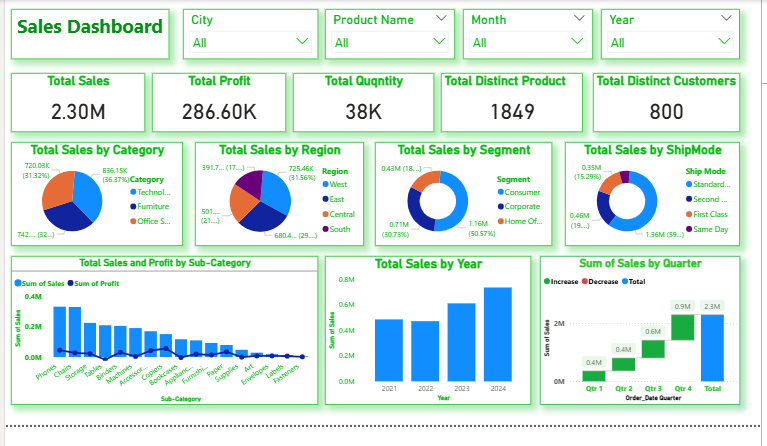

What the dashboard file says about the page in this screenshot:
{"tool":"powerbi","page":{"name":"Page 1","canvas":[1280,720],"ordinal":0},"visuals":[{"type":"textbox","box":[10.2,15.2,267.5,84.7],"z":0},{"type":"slicer","fields":{"Values":["Sales_Data.City"]},"box":[301.4,15.2,228.6,84.7],"z":1000},{"type":"slicer","fields":{"Values":["Sales_Data.Product Name"]},"box":[541.8,15.2,220.1,84.7],"z":2000},{"type":"slicer","fields":{"Values":["Sales_Data.Order_Date.Variation.Date Hierarchy.Year"]},"box":[1009.1,15.2,235.3,84.7],"z":3000},{"type":"slicer","fields":{"Values":["Sales_Data.Order_Date.Variation.Date Hierarchy.Month"]},"box":[775.4,15.2,220.1,84.7],"z":4000},{"type":"card","title":"Total Sales","fields":{"Values":["Sum(Sales_Data.Sales)"]},"box":[10.2,123.6,226.9,99.9],"z":5000},{"type":"card","title":"Total Profit","fields":{"Values":["Sum(Sales_Data.Profit)"]},"box":[248.9,123.6,226.9,99.9],"z":6000},{"type":"card","title":"Total Quqntity","fields":{"Values":["Sum(Sales_Data.Quantity)"]},"box":[487.6,123.6,238.7,99.9],"z":7000},{"type":"card","title":"Total Distinct Product","fields":{"Values":["Count(Sales_Data.Product Name)"]},"box":[738.2,123.6,240.4,99.9],"z":8000},{"type":"card","title":"Total Distinct Customers","fields":{"Values":["Count(Sales_Data.Customer ID)"]},"box":[995.6,123.6,248.9,99.9],"z":9000},{"type":"pieChart","title":"Total Sales by Category","fields":{"Category":["Sales_Data.Category"],"Y":["Sum(Sales_Data.Sales)"]},"box":[10.2,240.4,291.2,176.1],"z":10000},{"type":"pieChart","title":"Total Sales by Region","fields":{"Y":["Sum(Sales_Data.Sales)"],"Category":["Sales_Data.Region"]},"box":[321.7,240.4,286.1,176.1],"z":11000},{"type":"donutChart","title":"Total Sales by Segment","fields":{"Category":["Sales_Data.Segment"],"Y":["Sum(Sales_Data.Sales)"]},"box":[626.5,240.4,299.7,176.1],"z":12000},{"type":"donutChart","title":"Total Sales by ShipMode","fields":{"Y":["Sum(Sales_Data.Sales)"],"Category":["Sales_Data.Ship Mode"]},"box":[948.1,240.4,296.3,176.1],"z":13000},{"type":"lineClusteredColumnComboChart","title":"Total Sales and Profit by Sub-Category","fields":{"Category":["Sales_Data.Sub-Category"],"Y":["Sum(Sales_Data.Sales)"],"Y2":["Sum(Sales_Data.Profit)"]},"box":[10.2,433.4,519.8,252.3],"z":14000},{"type":"clusteredColumnChart","title":"Total Sales by Year","fields":{"Category":["Sales_Data.Order_Date.Variation.Date Hierarchy.Year"],"Y":["Sum(Sales_Data.Sales)"]},"box":[541.8,433.4,348.8,252.3],"z":15000},{"type":"waterfallChart","fields":{"Category":["Sales_Data.Order_Date.Variation.Date Hierarchy.Quarter"],"Y":["Sum(Sales_Data.Sales)"]},"box":[905.8,433.4,338.6,252.3],"z":16000}]}

Visuals, with their boxes in screenshot pixels (x1, y1, x2, y2):
textbox: select_region(10, 7, 168, 57)
slicer - Sales_Data.City: select_region(182, 7, 317, 57)
slicer - Sales_Data.Product Name: select_region(324, 7, 454, 57)
slicer - Sales_Data.Order_Date.Variation.Date Hierarchy.Year: select_region(600, 7, 739, 57)
slicer - Sales_Data.Order_Date.Variation.Date Hierarchy.Month: select_region(462, 7, 592, 57)
"Total Sales" card: select_region(10, 71, 144, 130)
"Total Profit" card: select_region(151, 71, 285, 130)
"Total Quqntity" card: select_region(292, 71, 433, 130)
"Total Distinct Product" card: select_region(440, 71, 582, 130)
"Total Distinct Customers" card: select_region(592, 71, 739, 130)
"Total Sales by Category" pieChart: select_region(10, 140, 182, 244)
"Total Sales by Region" pieChart: select_region(194, 140, 363, 244)
"Total Sales by Segment" donutChart: select_region(374, 140, 551, 244)
"Total Sales by ShipMode" donutChart: select_region(564, 140, 739, 244)
"Total Sales and Profit by Sub-Category" lineClusteredColumnComboChart: select_region(10, 254, 317, 403)
"Total Sales by Year" clusteredColumnChart: select_region(324, 254, 530, 403)
waterfallChart - Sales_Data.Order_Date.Variation.Date Hierarchy.Quarter x Sum(Sales_Data.Sales): select_region(539, 254, 739, 403)
